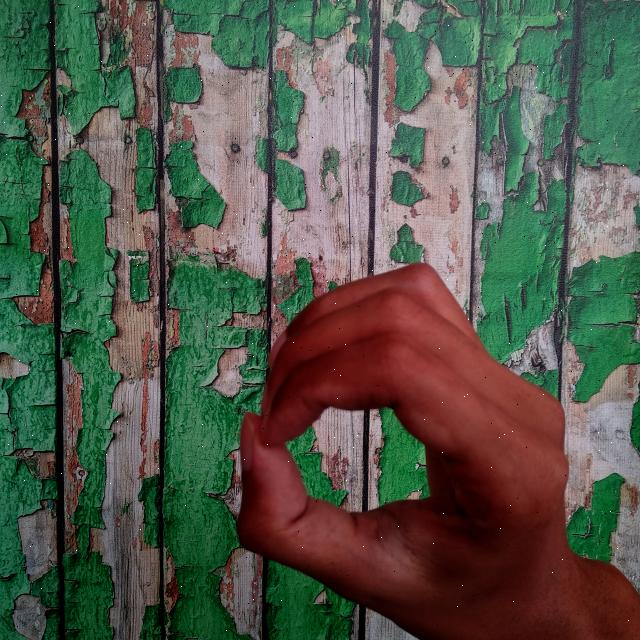O: (229, 248, 639, 640)
